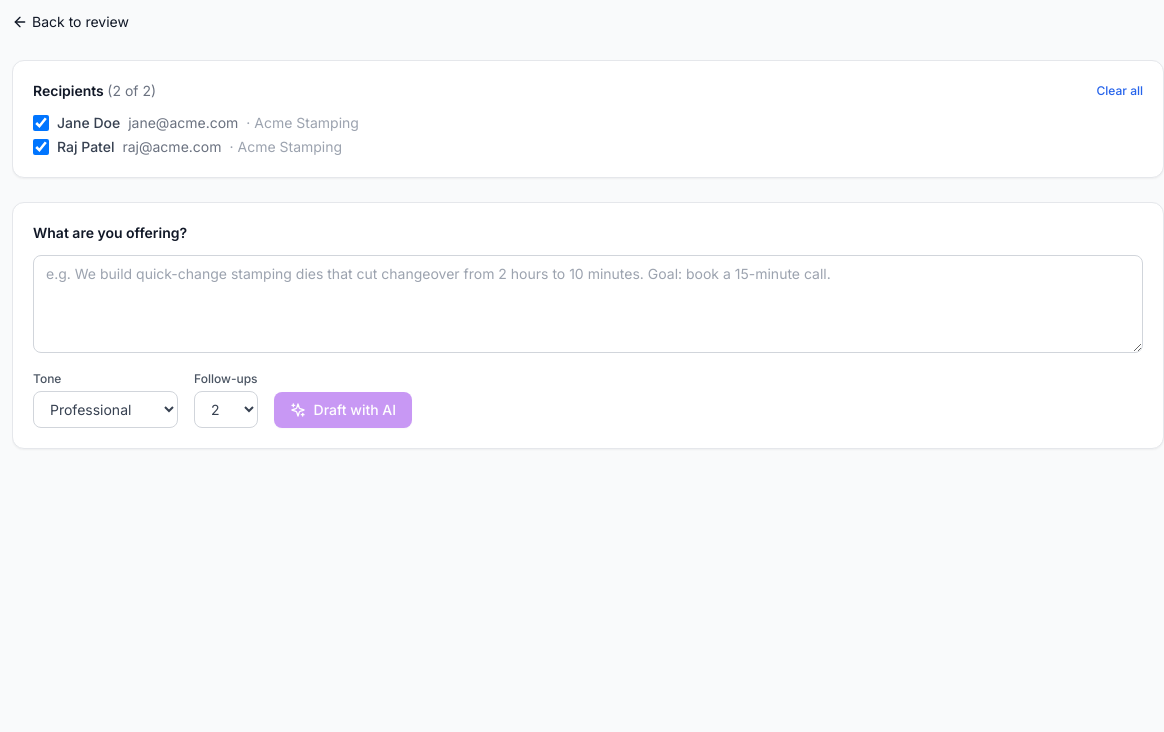
Test: DocumentOutreach › shows the Gemini key banner when drafting is refused for a missing key
Replace the text in the text box with placeholder "quick-change stamping dies" with "We build quick-change dies. Book a call." at (588, 304), box [33,255,1143,353]
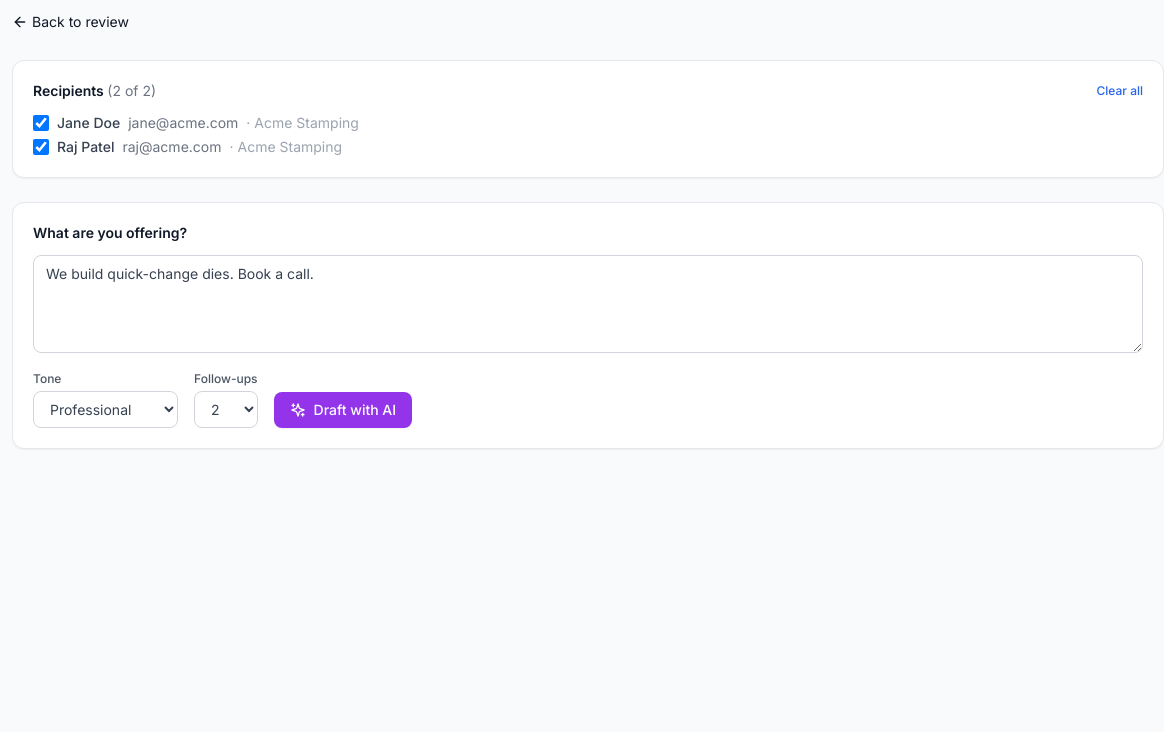
Click the button "Draft with AI" at (343, 410), box [274,392,412,428]
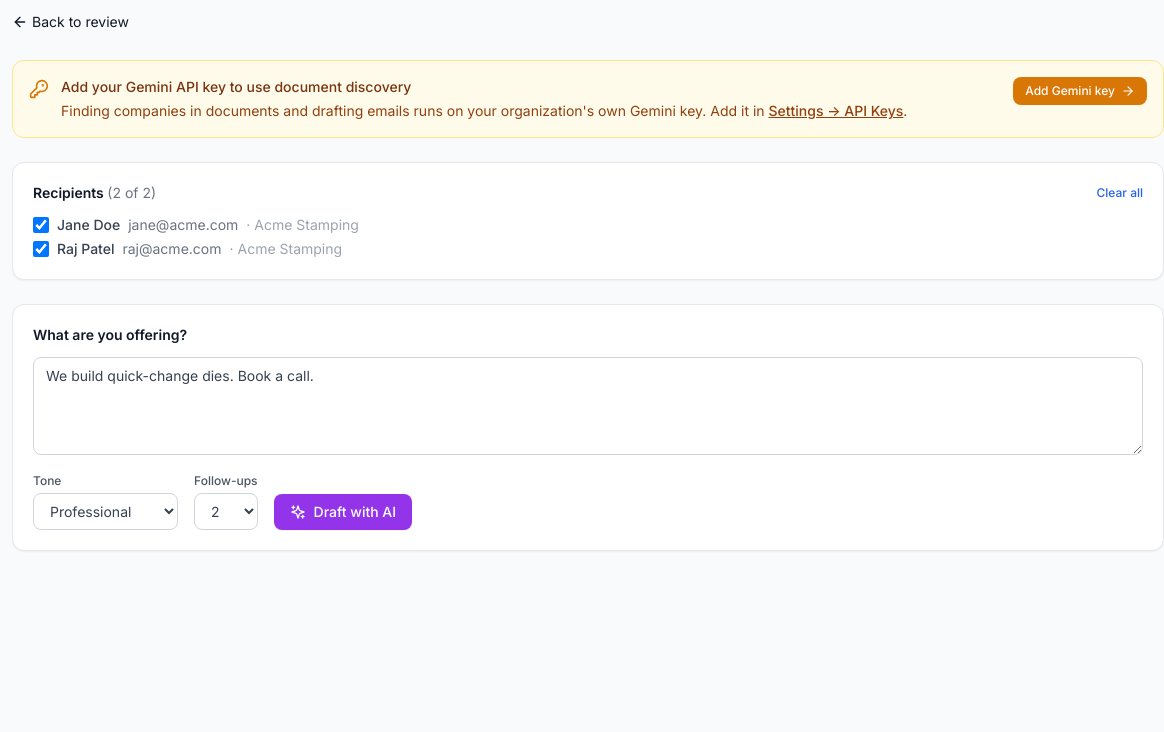
Result: the text "Add your Gemini API key to use document discovery" is shown at [61,78,411,95]
